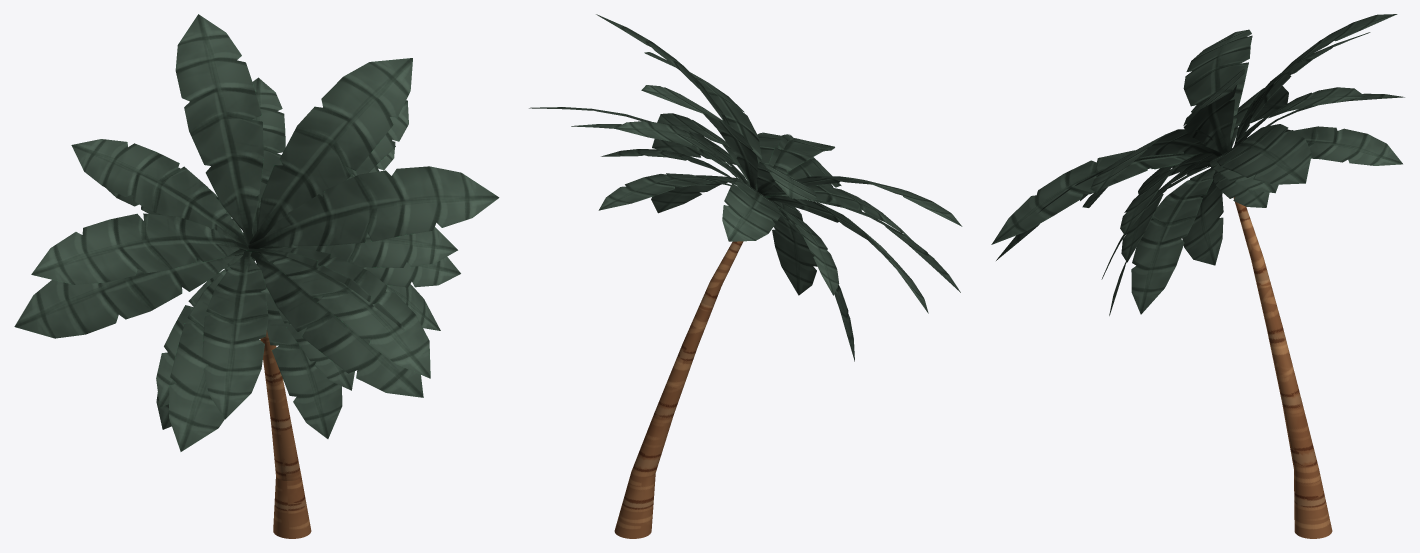
File: palm_tree_stylized.gltf
3 views of the same model, side by side, from view 1: azimuth 30°, elevation 25°; view 2: azimuth 150°, elevation 25°; view 3: azimuth 270°, elevation 25° (orthographic). The views are drawn at different scales.
Visible parts, largest first — view 1: Plane.001_1, Cylinder.001_0; view 2: Plane.001_1, Cylinder.001_0; view 3: Plane.001_1, Cylinder.001_0.
Part boxes in pixels (x1=…): Plane.001_1: x1=14, y1=14, x2=499, y2=451; Cylinder.001_0: x1=260, y1=330, x2=311, y2=538; Plane.001_1: x1=529, y1=14, x2=962, y2=361; Cylinder.001_0: x1=614, y1=241, x2=743, y2=538; Plane.001_1: x1=991, y1=14, x2=1404, y2=315; Cylinder.001_0: x1=1233, y1=197, x2=1332, y2=538.
Size of the model in its own units: 9.59 by 11.08 by 8.45.
Materials: 1 (1 with a texture image).
